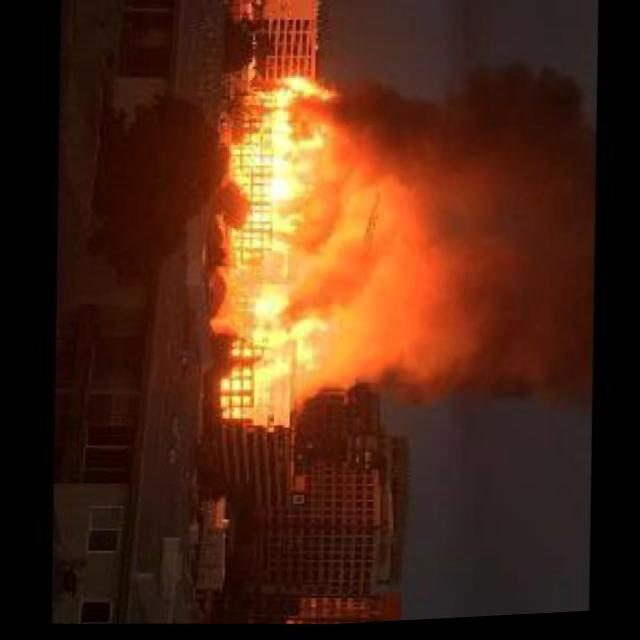fire: (320, 51, 608, 442), (198, 68, 350, 440)
